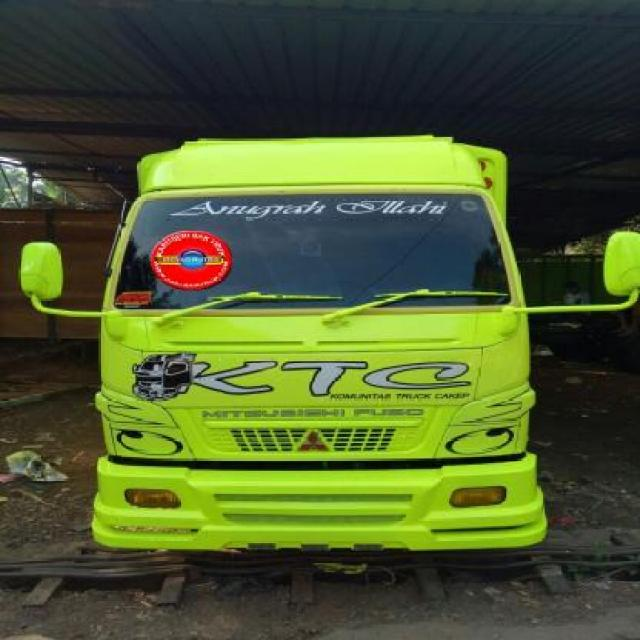truck: (16, 137, 640, 553)
